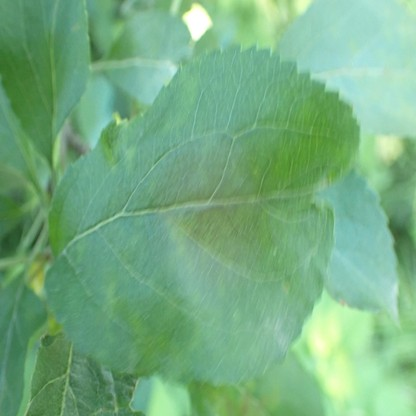scab: (149, 117, 296, 281), (125, 302, 201, 374), (103, 283, 117, 318)
